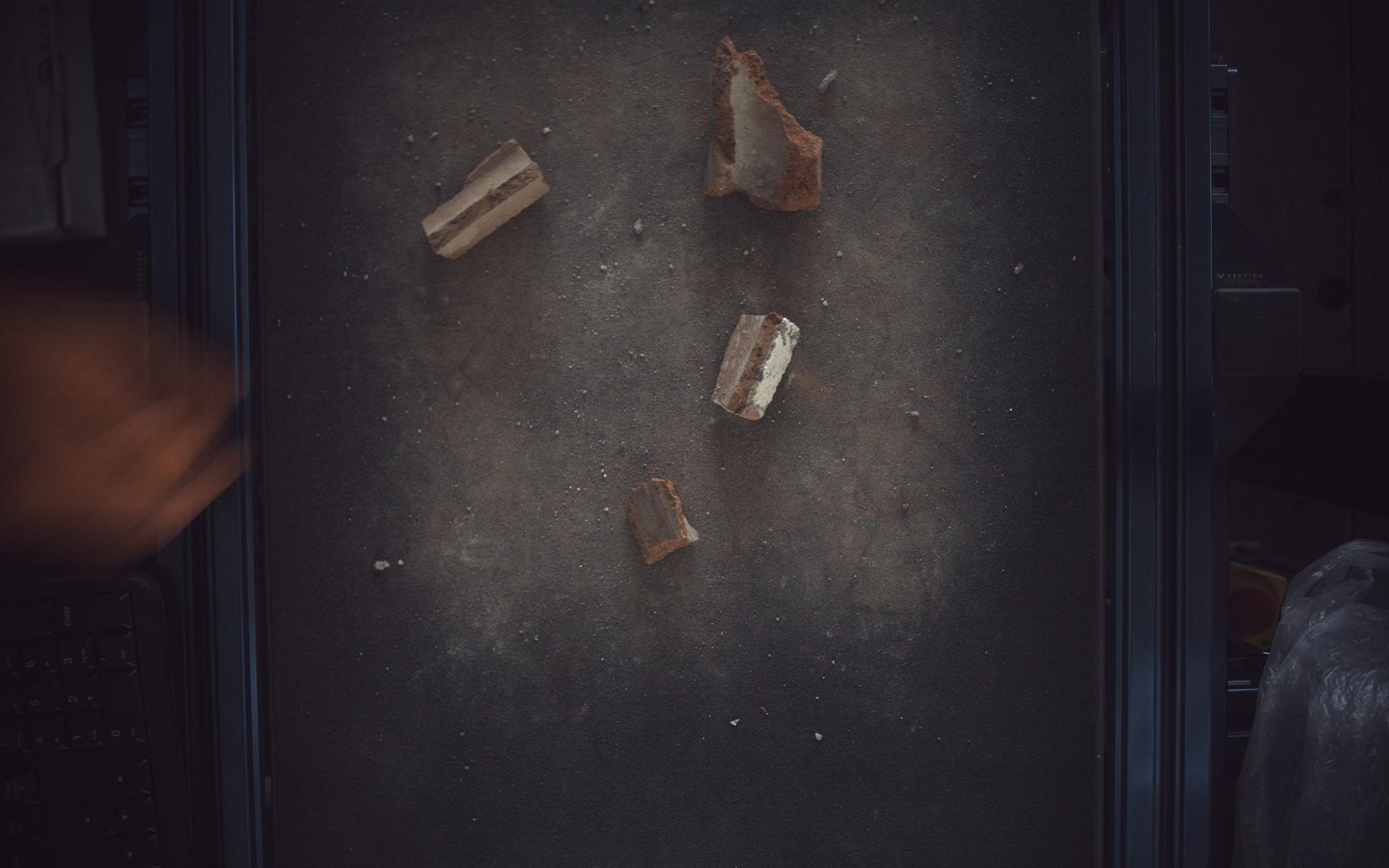brick: (705, 35, 823, 210), (422, 138, 550, 259), (713, 312, 801, 420), (629, 478, 700, 565)
